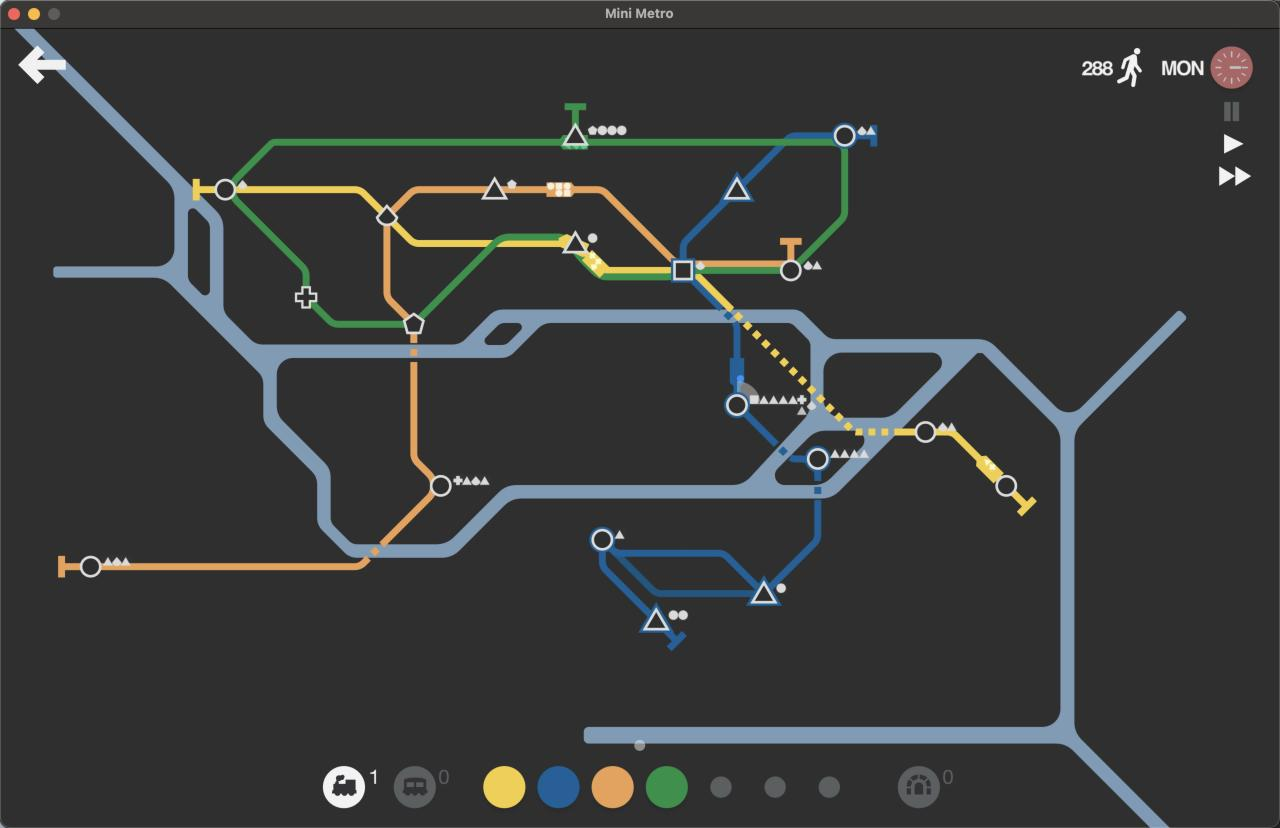BLUE LINE: (609, 545, 757, 588), (687, 279, 741, 393), (771, 471, 823, 589), (599, 551, 653, 618), (744, 414, 808, 463), (681, 197, 728, 257), (744, 147, 783, 182), (665, 631, 687, 651), (786, 131, 833, 140), (859, 125, 877, 147)
DARK GREEN LINE: (233, 135, 568, 184), (420, 233, 562, 318), (232, 197, 311, 287), (798, 147, 849, 265), (313, 303, 404, 328), (588, 139, 835, 145), (695, 265, 781, 274), (601, 273, 673, 280), (566, 103, 586, 123)
ORANGE YELLOW LINE: (101, 494, 436, 571), (505, 187, 675, 262), (409, 335, 435, 479), (392, 185, 491, 212), (382, 227, 409, 319), (58, 556, 81, 578), (698, 261, 788, 266), (780, 238, 801, 259)
YELLOW LINE: (695, 274, 916, 437), (237, 186, 383, 211), (936, 429, 1001, 483), (393, 225, 491, 247), (586, 251, 672, 271), (500, 236, 567, 247), (1014, 493, 1039, 515), (193, 180, 214, 199)
